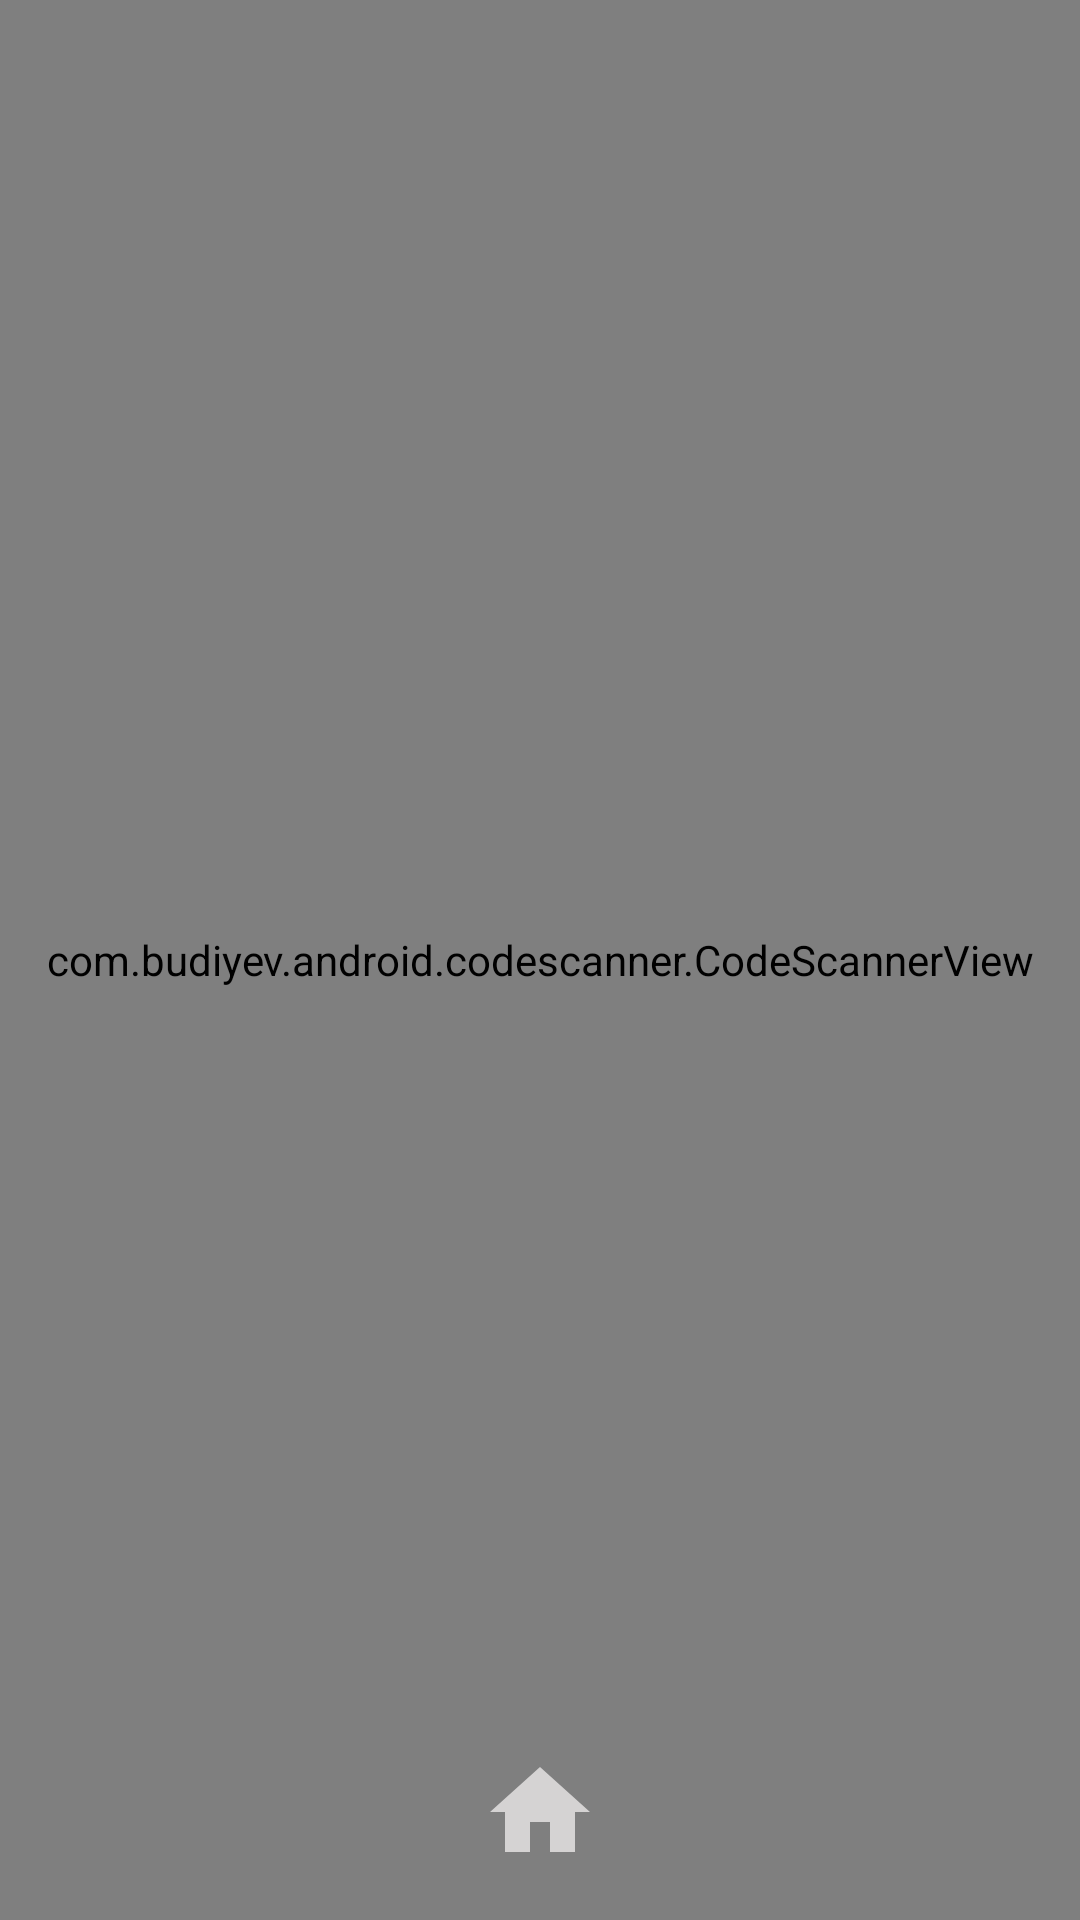

Icon click points for this 1080x1920 phone screenshot, format point (x, y):
home: point (540, 1809)
